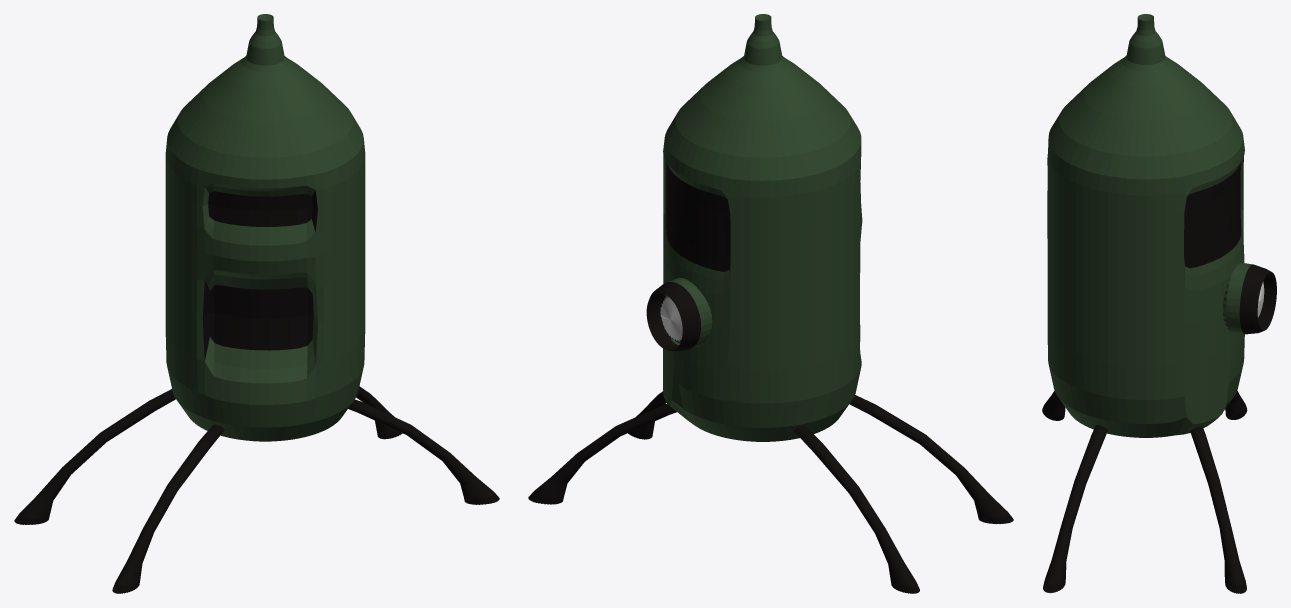
Rendered from SubmarineSmooth.fbx.
3 renders of one model, left to right at view 1: azimuth 30°, elevation 25°; view 2: azimuth 150°, elevation 25°; view 3: azimuth 270°, elevation 25°, orthographic.
Visible parts, largest first — view 1: Body; view 2: Body; view 3: Body.
Boxes of the visible parts, box(x1,y1,x2,y2) form: Body: box(14, 14, 499, 593); Body: box(528, 14, 1013, 593); Body: box(1042, 14, 1276, 593).
Bounding box in the file's own units: 448 × 542 × 236.
